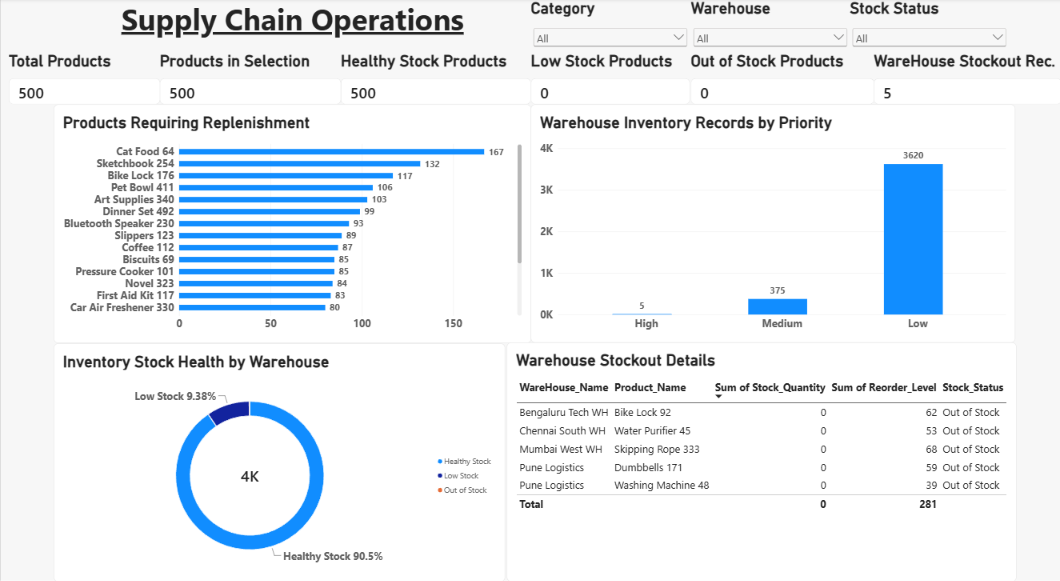

This screenshot's page, from the dashboard's own definition file:
{"tool":"powerbi","page":{"name":"Supply Chain Operations","canvas":[1920,1080],"ordinal":1},"visuals":[{"type":"donutChart","title":"Inventory Stock Health by Warehouse","fields":{"Category":["Inventory.Stock_Status"],"Y":["CountNonNull(Inventory.Product_ID)"]},"box":[96,624.9,816.9,431.1],"z":0},{"type":"clusteredBarChart","title":"Products Requiring Replenishment","fields":{"Category":["Inventory.Product_Name"],"Y":["Inventory.Replenishment Shortfall"]},"box":[96,192,864,432],"z":1000},{"type":"textbox","box":[96,0,864,96],"z":2000},{"type":"clusteredColumnChart","title":"Warehouse Inventory Records by Priority","fields":{"Category":["Inventory.Priority Level"],"Y":["CountNonNull(Inventory.Product_ID)"]},"box":[960,192,877.2,431.1],"z":3000},{"type":"cardVisual","title":"Total Products","fields":{"Data":["Inventory.Total Products"]},"box":[14,96,274,96],"z":4000},{"type":"cardVisual","title":"Healthy Stock Products","fields":{"Data":["Inventory.Healthy Stock Products"]},"box":[616,96,344,96],"z":5000},{"type":"cardVisual","title":"Low Stock Products","fields":{"Data":["Inventory.Low Stock Products"]},"box":[960,96,288,96],"z":6000},{"type":"cardVisual","title":"Out of Stock Products","fields":{"Data":["Inventory.Out of Stock Products"]},"box":[1248,96,332,96],"z":7000},{"type":"cardVisual","title":"WareHouse Stockout Rec.","fields":{"Data":["Inventory.Warehouse Stockout Records"]},"box":[1580,96,340,96],"z":8000},{"type":"tableEx","title":"Warehouse Stockout Details","fields":{"Values":["Inventory.WareHouse_Name","Inventory.Product_Name","Sum(Inventory.Stock_Quantity)","Sum(Inventory.Reorder_Level)","Inventory.Stock_Status"]},"box":[914.8,623.1,922.4,432.9],"z":9000},{"type":"actionButton","box":[0,0,100,40],"z":10000},{"type":"slicer","title":"Warehouse","fields":{"Values":["Inventory.WareHouse_Name"]},"box":[1248,0,288,96],"z":11000},{"type":"slicer","title":"Category","fields":{"Values":["Inventory.Category_Name"]},"box":[960,0,288,96],"z":12000},{"type":"slicer","title":"Stock Status","fields":{"Values":["Inventory.Stock_Status"]},"box":[1536,0,288,96],"z":13000},{"type":"cardVisual","title":"Products in Selection","fields":{"Data":["Inventory.Products in Selection"]},"box":[288,96,328,96],"z":14000}]}

Visuals, with their boxes in screenshot pixels (x1, y1, x2, y2), scaled from the page's 1920x1080 canvas onto the 1060x581 screenshot:
"Inventory Stock Health by Warehouse" donutChart: select_region(53, 336, 504, 568)
"Products Requiring Replenishment" clusteredBarChart: select_region(53, 103, 530, 336)
textbox: select_region(53, 0, 530, 52)
"Warehouse Inventory Records by Priority" clusteredColumnChart: select_region(530, 103, 1014, 335)
"Total Products" cardVisual: select_region(8, 52, 159, 103)
"Healthy Stock Products" cardVisual: select_region(340, 52, 530, 103)
"Low Stock Products" cardVisual: select_region(530, 52, 689, 103)
"Out of Stock Products" cardVisual: select_region(689, 52, 872, 103)
"WareHouse Stockout Rec." cardVisual: select_region(872, 52, 1059, 103)
"Warehouse Stockout Details" tableEx: select_region(505, 335, 1014, 568)
actionButton: select_region(0, 0, 55, 22)
"Warehouse" slicer: select_region(689, 0, 848, 52)
"Category" slicer: select_region(530, 0, 689, 52)
"Stock Status" slicer: select_region(848, 0, 1007, 52)
"Products in Selection" cardVisual: select_region(159, 52, 340, 103)
